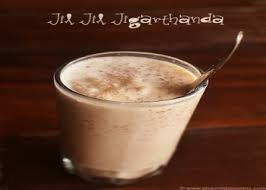jigirthanda: (63, 61, 161, 173)
